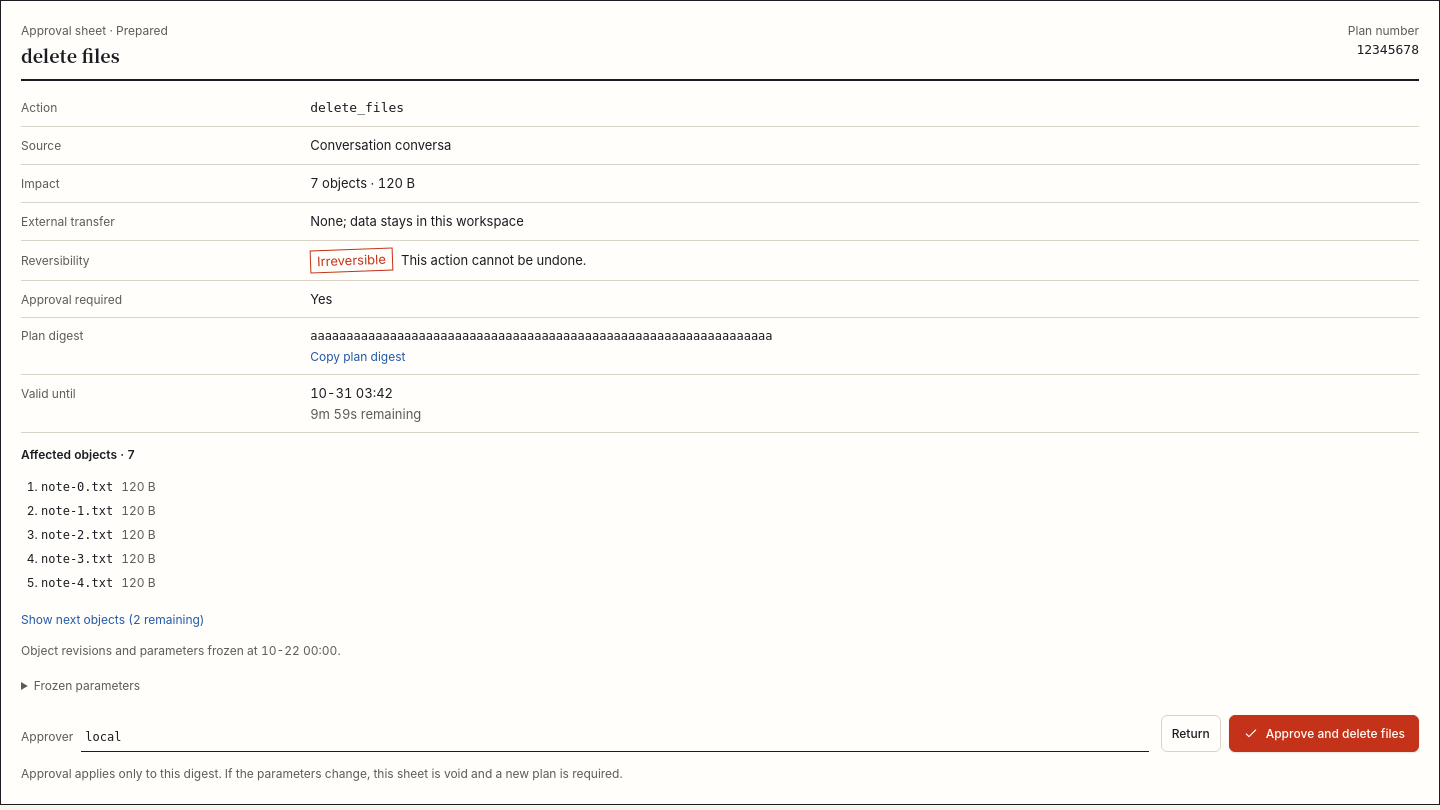
Test: shows every frozen object in bounded batches without fetching or altering the plan
Expected: the number of list items is 5, [41,479,156,494]; [41,503,156,518]; [41,527,156,542]; [41,551,156,566]; [41,575,156,590]
Click the button "Show next objects (2 remaining)". click: (113, 619)
box: [21,610,204,629]
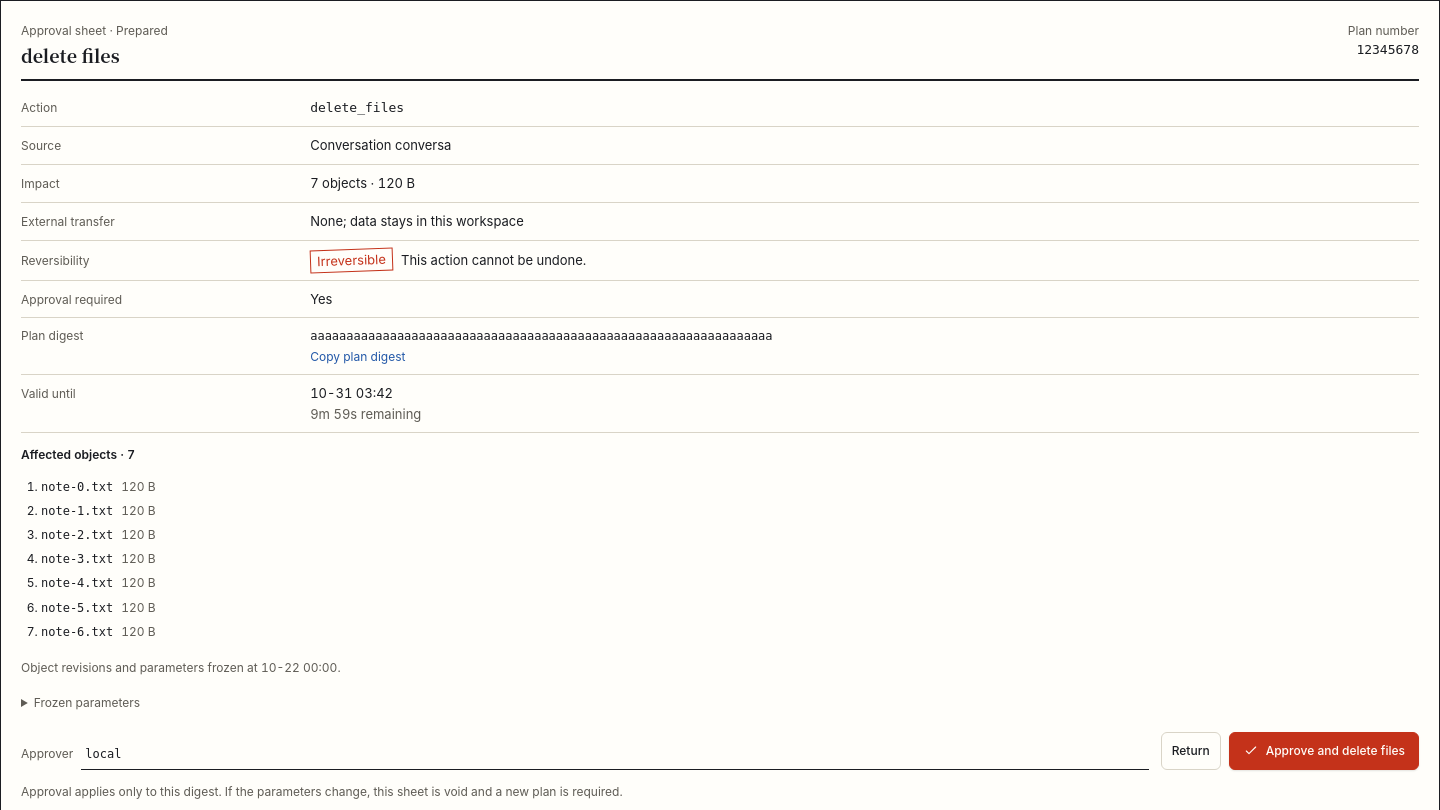
Expected: the number of list items is 7
